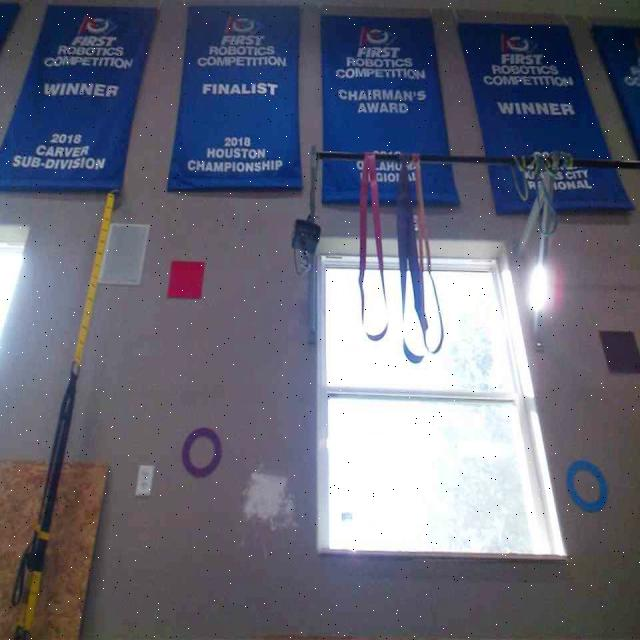ring_blue: (566, 459, 610, 512)
ring_purple: (180, 425, 222, 478)
square_black: (598, 328, 640, 373)
square_red: (168, 257, 205, 299)
